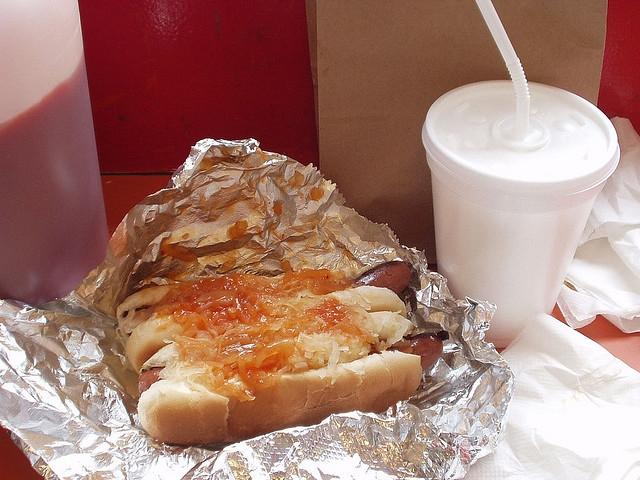onion: (159, 234, 198, 274), (250, 337, 294, 368), (238, 352, 272, 391), (205, 334, 252, 358), (346, 310, 376, 344), (336, 306, 376, 329), (210, 382, 256, 401), (194, 295, 234, 314), (312, 278, 354, 296), (116, 309, 136, 337), (144, 308, 172, 326), (232, 297, 250, 325), (198, 276, 227, 292), (328, 340, 340, 376), (133, 305, 158, 322), (226, 221, 248, 240), (160, 302, 193, 314), (257, 299, 281, 315), (158, 361, 179, 379), (202, 318, 218, 339), (274, 301, 304, 312), (190, 360, 224, 369), (258, 324, 281, 336), (278, 292, 303, 303), (259, 354, 277, 368), (280, 279, 300, 291), (340, 323, 360, 335), (287, 356, 311, 366), (308, 350, 320, 370), (235, 325, 261, 334), (227, 365, 240, 380), (218, 320, 234, 332), (206, 365, 215, 385), (314, 332, 336, 340), (195, 330, 213, 339), (348, 344, 361, 356), (296, 332, 306, 347), (246, 306, 258, 318), (304, 320, 320, 328), (258, 314, 274, 322), (308, 300, 320, 310), (292, 315, 304, 325), (314, 316, 326, 326), (323, 348, 332, 360), (178, 348, 186, 360), (293, 362, 308, 368), (177, 294, 188, 302), (341, 332, 353, 339), (270, 295, 280, 303), (265, 289, 281, 294), (302, 289, 310, 298), (234, 344, 243, 352), (247, 367, 253, 379), (205, 309, 212, 318), (294, 346, 300, 356), (254, 292, 260, 300), (228, 306, 232, 316), (278, 314, 284, 318)
